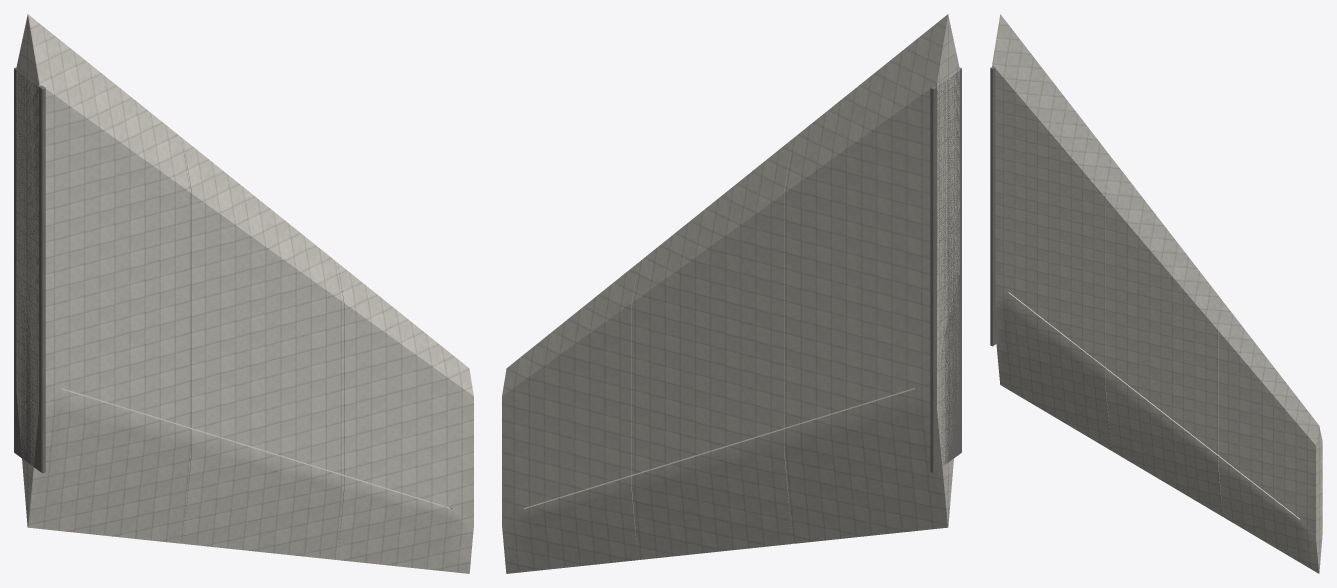
File: ax_aero_21_tlv_vertical_tail_l.glb
3 renders of one model, left to right at view 1: azimuth 30°, elevation 25°; view 2: azimuth 150°, elevation 25°; view 3: azimuth 330°, elevation 25°, orthographic. The views are drawn at different scales.
Visible parts, largest first — view 1: wing_top, rudder, root_flange, wing_underside; view 2: wing_underside, rudder, root_flange, wing_top; view 3: wing_top, rudder, root_flange, wing_underside.
Part boxes in pixels (box(x1,y1,x2,y2)): wing_top: box(27, 14, 473, 573); rudder: box(50, 388, 452, 571); root_flange: box(14, 67, 45, 473); wing_underside: box(16, 16, 27, 525); wing_underside: box(502, 14, 948, 573); rudder: box(523, 388, 925, 571); root_flange: box(930, 67, 961, 473); wing_top: box(948, 16, 959, 525); wing_top: box(992, 14, 1319, 573); rudder: box(1008, 292, 1302, 563); root_flange: box(990, 66, 998, 346); wing_underside: box(1319, 426, 1322, 572).
Size of the model in its own units: 4.32 by 6.24 by 0.48.
2 materials, 2 textured.
